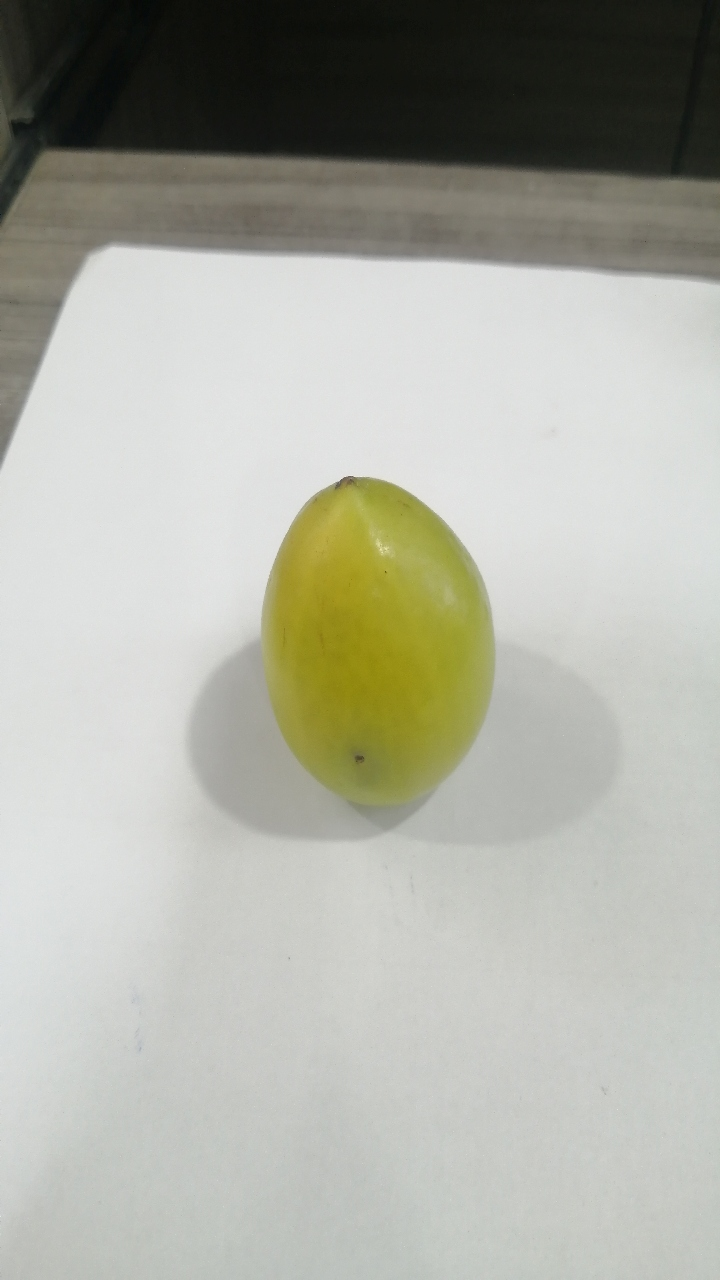tomateVerde: (229, 454, 535, 832)
